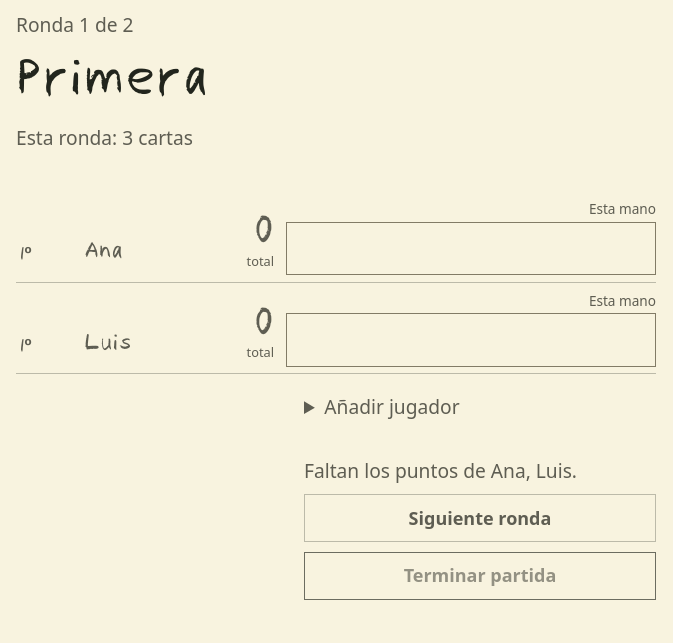
Test: ScoreBoard › edits a previous round without losing later scores
Expected: the text "Corregir ronda anterior" is not shown
Type "4" into the 1st field labelled "Esta mano".
click(471, 249); type("4")  # box [286,222,656,275]
Type "7" into the 2nd field labelled "Esta mano".
click(471, 340); type("7")  # box [286,313,656,367]
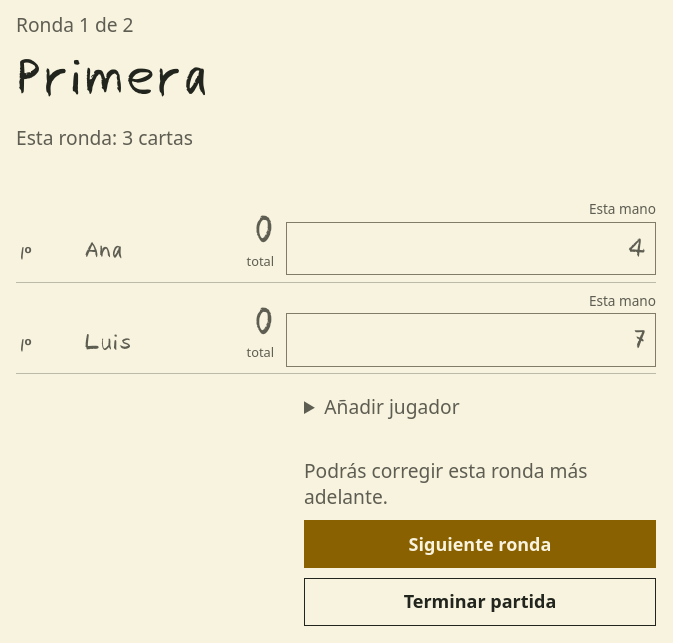
Click the button with class "action".
click(480, 544)  # box [304,520,656,568]
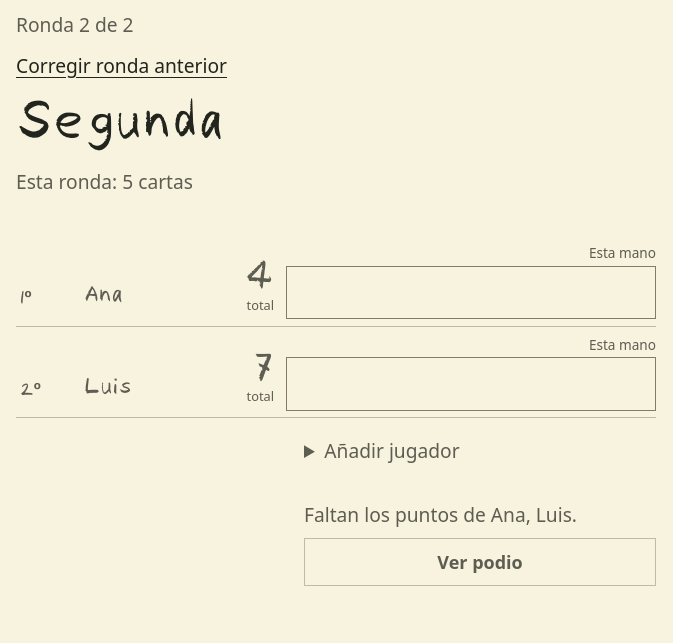
Type "10" into the field labelled "Esta mano" in the row of "1º".
click(471, 293); type("10")  # box [286,266,656,319]
Type "20" into the field labelled "Esta mano" in the row of "2º".
click(471, 384); type("20")  # box [286,357,656,411]
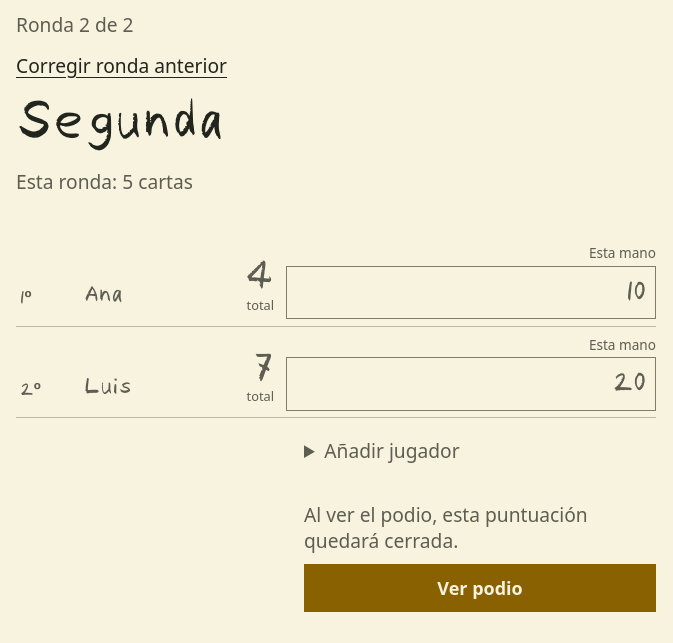
Click the button "Corregir ronda anterior".
click(122, 66)  # box [16,44,227,88]
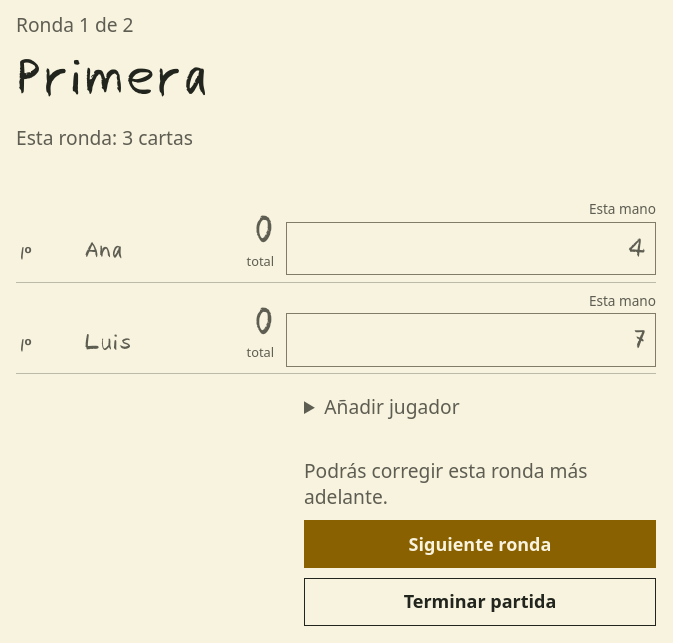
Expected: the heading "Primera" is shown, [16,50,209,106]
Expected: the elements with class "total" read "0total", "0total", in this order, [246,208,274,267]; [246,300,274,359]
Replace the text in the field labelled "Esta mano" in the row of "Ana" with "5" at [471, 249], box [286,222,656,275]
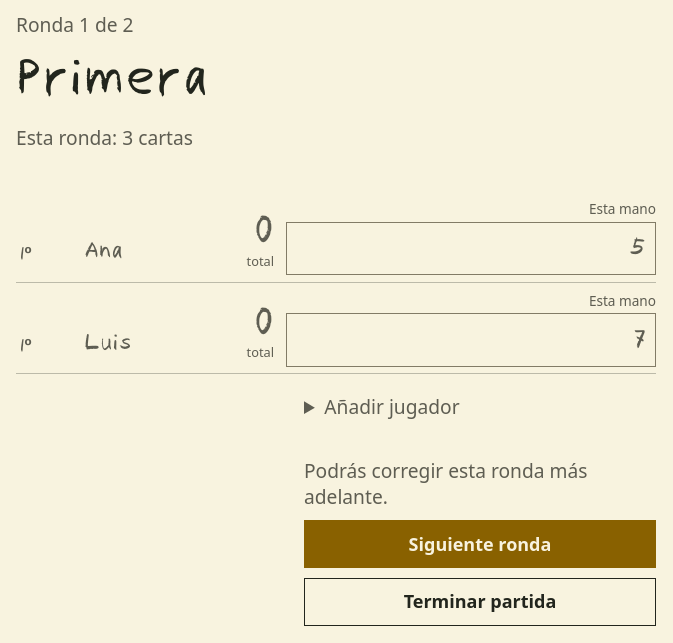
Click the button with class "action".
click(480, 544)  # box [304,520,656,568]
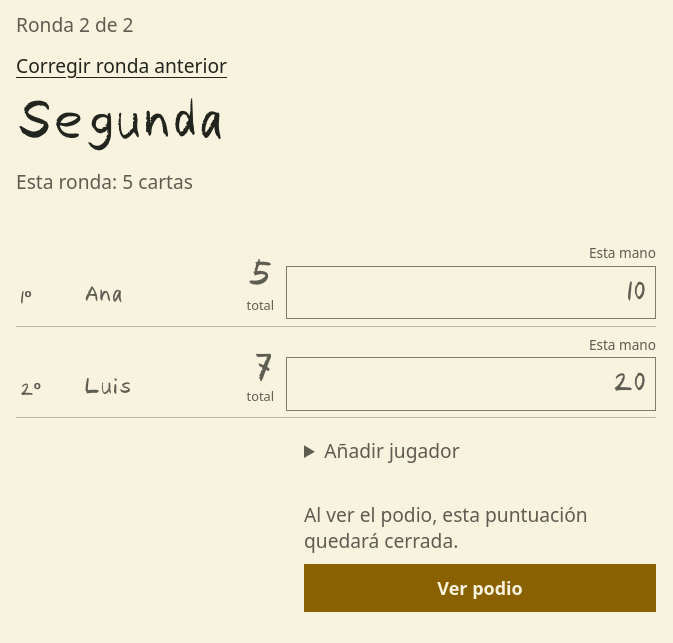
Expected: the heading "Segunda" is shown, [16,94,224,150]
